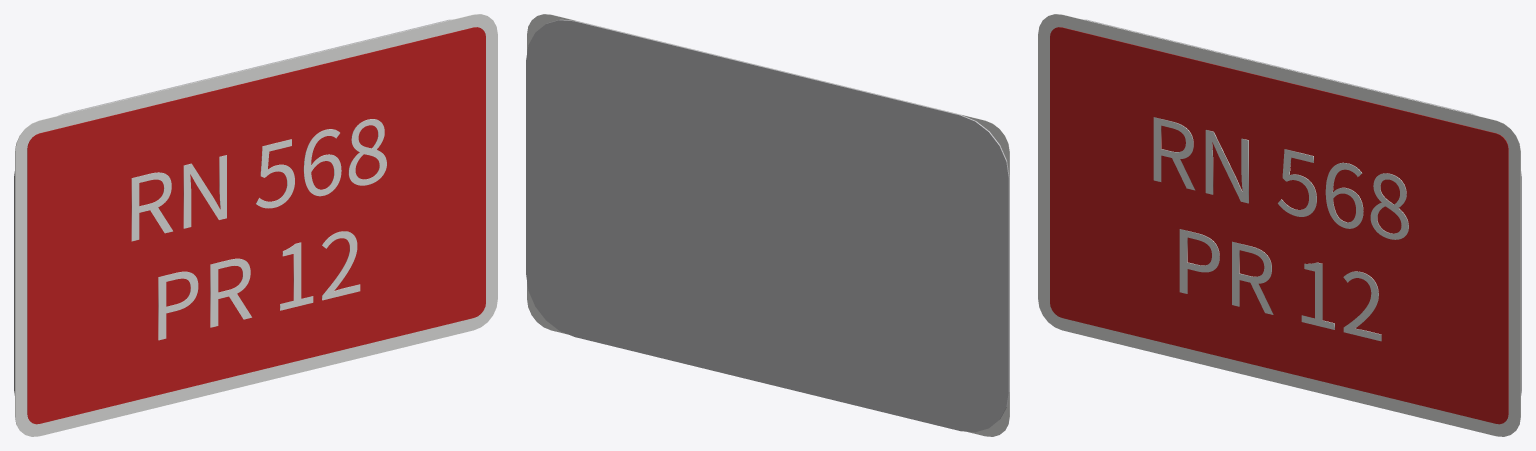
The picture shows the model from 3 angles, left to right: view 1: azimuth 30°, elevation 25°; view 2: azimuth 150°, elevation 25°; view 3: azimuth 330°, elevation 25°; orthographic projection.
Visible parts, largest first — view 1: E52a_fond01, E52a_cadre00, E52a_txt02, E52a_txt03, E52a_dos; view 2: E52a_dos, E52a_cadre00; view 3: E52a_fond01, E52a_cadre00, E52a_txt02, E52a_txt03, E52a_dos.
Part boxes in pixels (x1,y1,x2,y2): E52a_fond01: (27,27,485,424); E52a_cadre00: (15,14,497,436); E52a_txt02: (131,119,386,241); E52a_txt03: (158,231,360,340); E52a_dos: (14,19,452,395); E52a_dos: (526,19,1009,432); E52a_cadre00: (527,14,1009,436); E52a_fond01: (1050,27,1508,424); E52a_cadre00: (1038,14,1520,436); E52a_txt02: (1153,117,1408,239); E52a_txt03: (1179,229,1381,341); E52a_dos: (1083,19,1521,395).
Size of the model in its own units: 0.4 by 0.25 by 0.0029.
